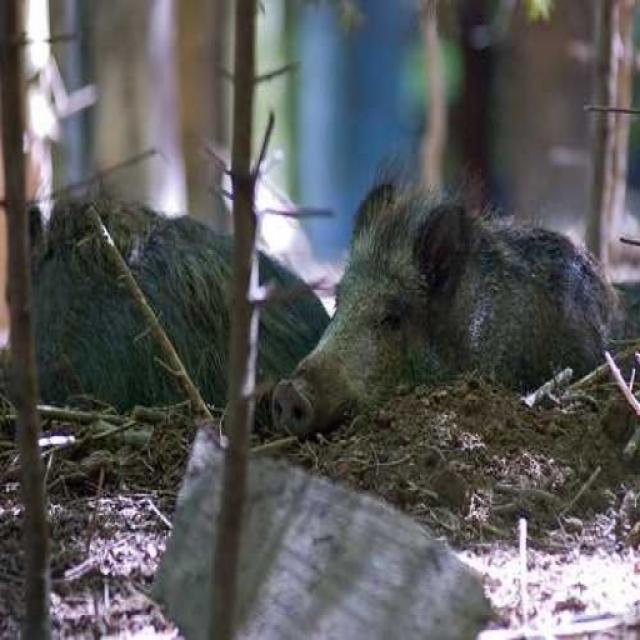pig: (286, 189, 640, 492)
